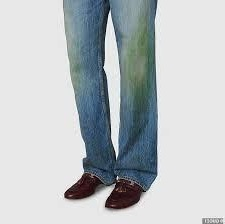earth: (128, 36, 151, 87)
